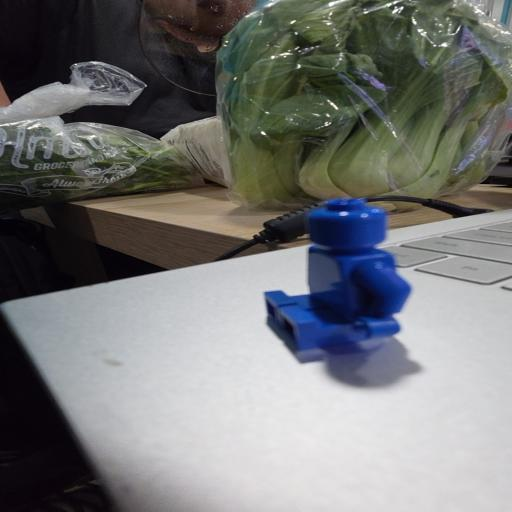Blue: (265, 199, 411, 351)
